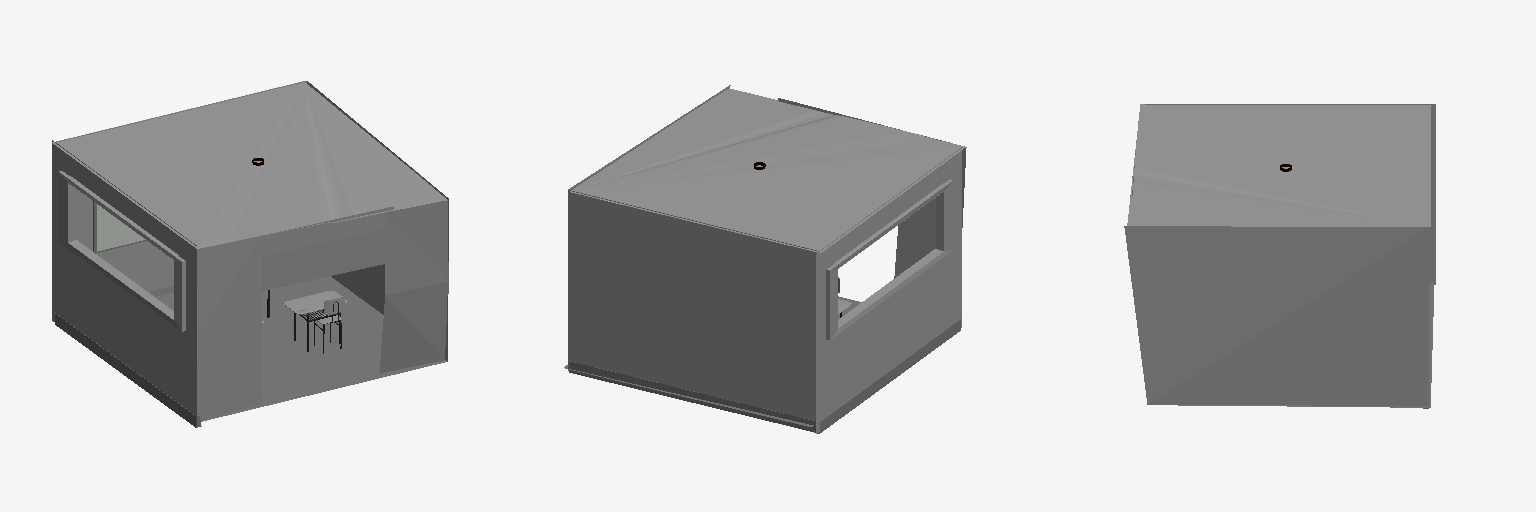
File: classroom.obj
3 views of the same model, side by side, from view 1: azimuth 30°, elevation 25°; view 2: azimuth 150°, elevation 25°; view 3: azimuth 270°, elevation 25° (orthographic).
Visible parts, largest first — view 1: Plane.003, Plane.002, Plane, Plane.001, Plane.013_Plane.015, Cube_Cube.001, Plane.005_Plane.006, Plane.016_Plane.019; view 2: Plane.001, Plane.003, Plane.002, Plane.013_Plane.015, Cube_Cube.001, Plane; view 3: Plane.001, Plane.003, Plane.002, Plane.
Boxes of the visible parts, <box> form: Plane.003: <box>52,81,448,420</box>; Plane.002: <box>52,140,196,425</box>; Plane: <box>155,276,446,421</box>; Plane.001: <box>56,81,448,361</box>; Plane.013_Plane.015: <box>58,171,185,331</box>; Cube_Cube.001: <box>55,284,201,427</box>; Plane.005_Plane.006: <box>97,204,144,251</box>; Plane.016_Plane.019: <box>283,291,347,314</box>; Plane.001: <box>568,85,818,420</box>; Plane.003: <box>570,88,966,278</box>; Plane.002: <box>816,147,961,433</box>; Plane.013_Plane.015: <box>826,179,953,339</box>; Cube_Cube.001: <box>569,319,960,433</box>; Plane: <box>564,296,861,426</box>; Plane.001: <box>1124,226,1428,407</box>; Plane.003: <box>1127,104,1430,377</box>; Plane.002: <box>1145,104,1435,284</box>; Plane: <box>1178,283,1434,407</box>.
Size of the model in its own units: 13.82 by 9.39 by 14.36.